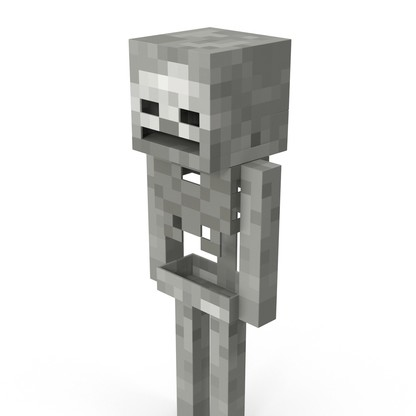skeleton: (119, 12, 307, 232)
